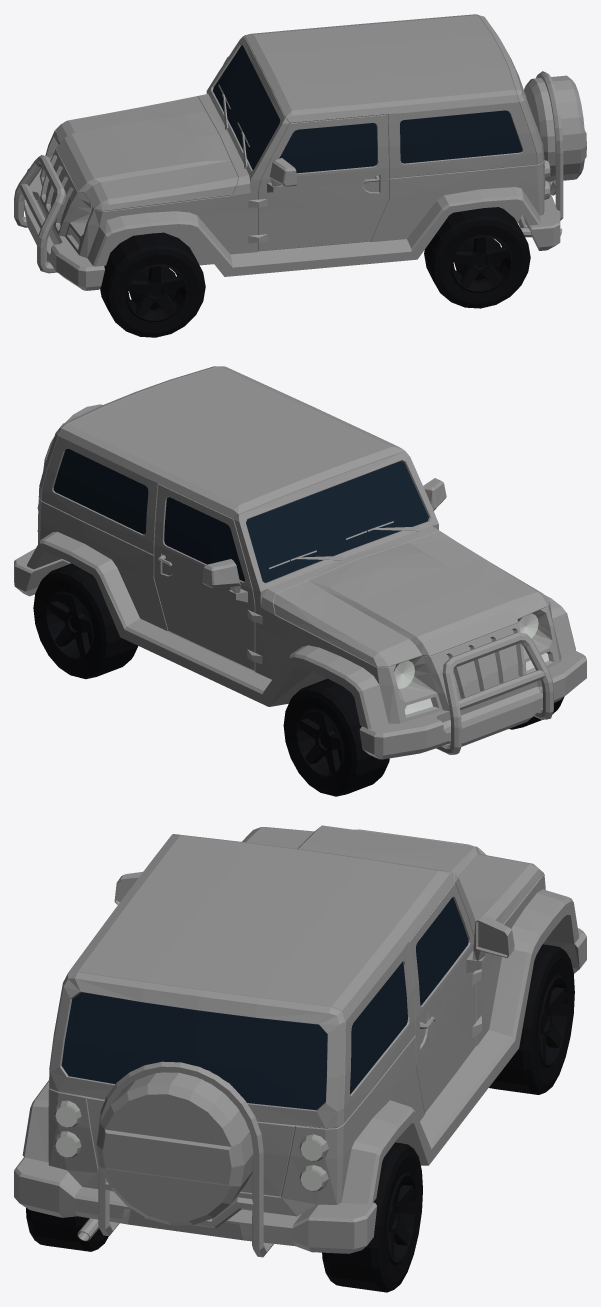
The model's file is offroad.obj.
The picture shows the model from 3 angles, top to bottom: view 1: azimuth 30°, elevation 25°; view 2: azimuth 150°, elevation 25°; view 3: azimuth 270°, elevation 25°; orthographic projection. The views are drawn at different scales.
Visible parts, largest first — view 1: offroad-body, wheel_g002; view 2: offroad-body, wheel_g002; view 3: offroad-body, wheel_g002.
Part boxes in pixels (x1,y1,x2,y2): offroad-body: [14, 14, 586, 290]; wheel_g002: [100, 207, 530, 337]; offroad-body: [14, 366, 586, 759]; wheel_g002: [33, 563, 564, 796]; offroad-body: [14, 825, 586, 1257]; wheel_g002: [26, 944, 574, 1292].
Size of the model in its own units: 4.1 by 1.62 by 2.8.
